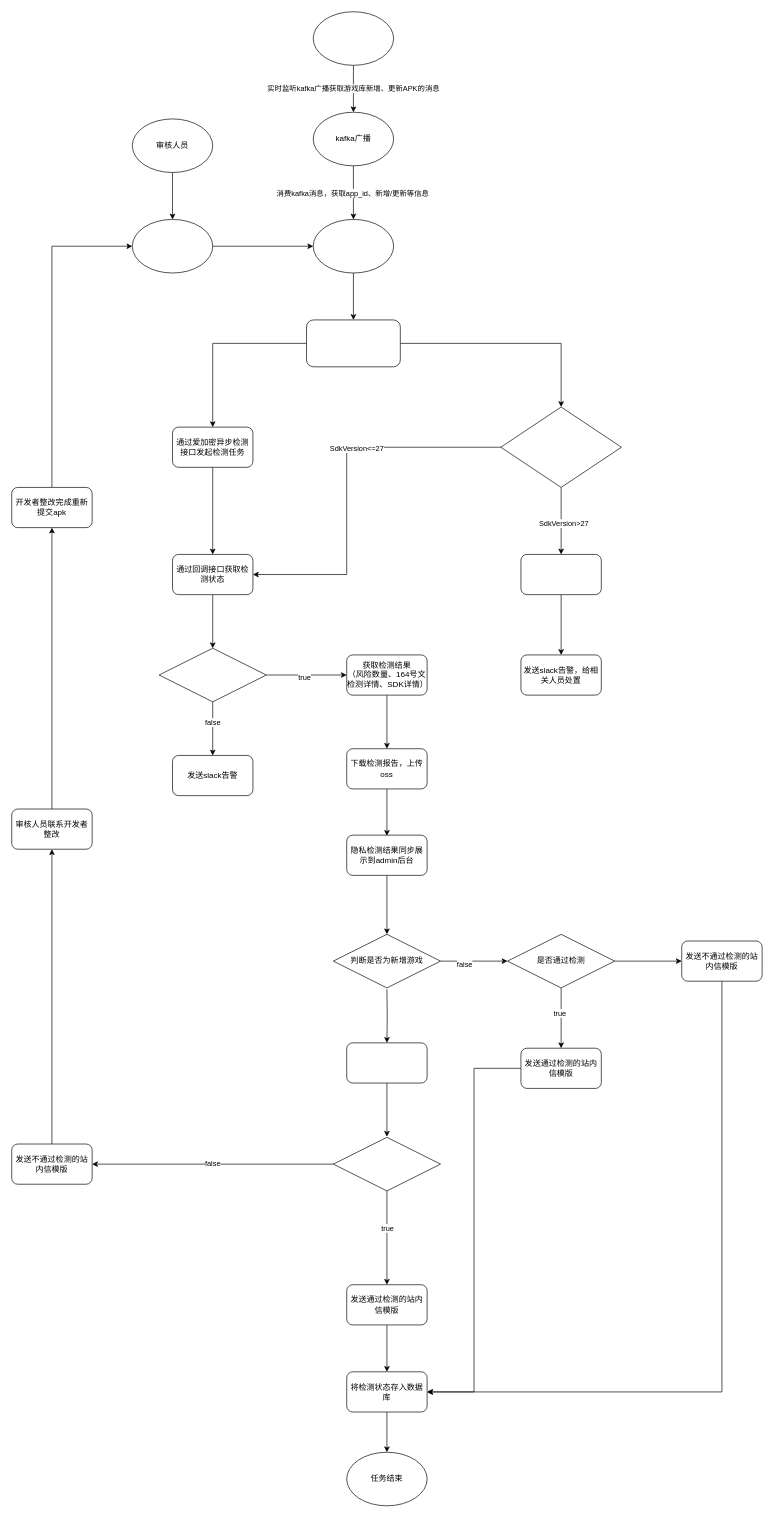
Some shapes in this 774 by 1518 pixel diagram are drawn without their labels. Each missing label, with the box of its shape:
DC审核后台: (132, 219, 213, 273)
审核人员在admin后台复核检测结果: (346, 1042, 427, 1083)
是否通过复核: (333, 1137, 441, 1191)
检测是否成功执行完成: (158, 648, 266, 702)
游戏库: (313, 219, 394, 273)
通过"aapt d badging xxx.apk|grep -iw sdkVersion"判断apk是否可以在沙箱运行: (500, 406, 621, 487)
通过api接口终止检测， 记录原因， 节约检测资源: (520, 554, 601, 595)
通过游戏库API获取apk的详细信息: (306, 319, 400, 367)
隐私检测程序: (313, 11, 394, 65)
